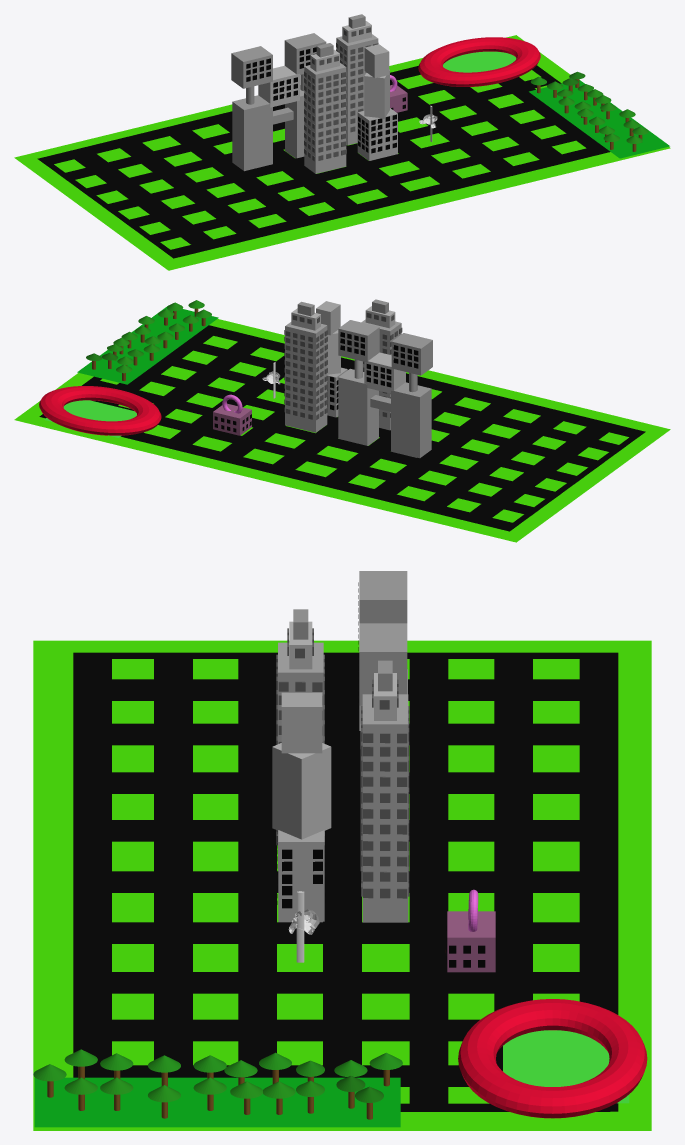
The model's file is city.glb.
3 renders of one model, top to bottom at view 1: azimuth 30°, elevation 25°; view 2: azimuth 150°, elevation 25°; view 3: azimuth 270°, elevation 25°, orthographic. The views are drawn at different scales.
Visible parts, largest first — view 1: Plane.010, Plane, Cube, Cube.002, Cylinder.004, Plane.002, Cube.001, Cube.003, Torus; view 2: Plane.010, Plane, Cube, Cube.003, Cylinder.004, Plane.002, Cube.001, Cube.002, Torus; view 3: Plane.010, Plane, Cylinder.004, Plane.002, Cube.003, Cube.001, Cube, Cube.002, Torus, Cylinder.
Part boxes in pixels (left/top/right/bottom): Plane.010: left=37, top=65, right=610, bottom=258; Plane: left=14, top=35, right=670, bottom=270; Cube: left=231, top=33, right=326, bottom=171; Cube.002: left=304, top=43, right=346, bottom=173; Cylinder.004: left=529, top=71, right=669, bottom=158; Plane.002: left=418, top=37, right=540, bottom=86; Cube.001: left=357, top=44, right=397, bottom=160; Cube.003: left=336, top=14, right=378, bottom=145; Torus: left=390, top=75, right=407, bottom=112; Plane.010: left=39, top=325, right=645, bottom=531; Plane: left=14, top=319, right=670, bottom=542; Cube: left=338, top=320, right=432, bottom=458; Cube.003: left=284, top=301, right=327, bottom=432; Cylinder.004: left=77, top=300, right=218, bottom=384; Plane.002: left=39, top=386, right=161, bottom=437; Cube.001: left=316, top=301, right=347, bottom=417; Cube.002: left=361, top=299, right=402, bottom=430; Torus: left=213, top=394, right=251, bottom=435; Plane.010: left=73, top=652, right=618, bottom=1111; Plane: left=33, top=640, right=651, bottom=1130; Cylinder.004: left=33, top=1049, right=402, bottom=1127; Plane.002: left=458, top=999, right=647, bottom=1118; Cube.003: left=361, top=660, right=409, bottom=922; Cube.001: left=272, top=692, right=331, bottom=922; Cube: left=358, top=571, right=407, bottom=870; Cube.002: left=276, top=609, right=324, bottom=870; Torus: left=445, top=889, right=496, bottom=972; Cylinder: left=288, top=891, right=319, bottom=962.
Size of the model in its own units: 228 by 55.05 by 121.
